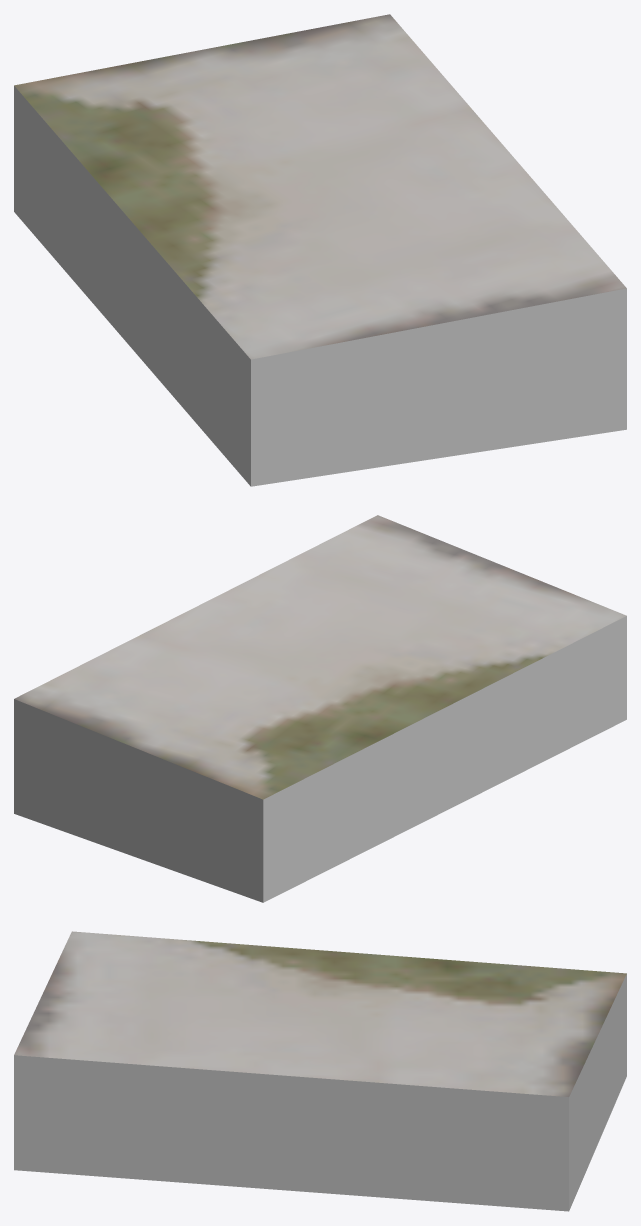
The model's file is DEBW_0010007TxhF.gltf.
The picture shows the model from 3 angles, top to bottom: view 1: azimuth 30°, elevation 25°; view 2: azimuth 150°, elevation 25°; view 3: azimuth 270°, elevation 25°; orthographic projection. The views are drawn at different scales.
Parts seen in each view (by area): view 1: Z_UP; view 2: Z_UP; view 3: Z_UP.
Part boxes in pixels (x1,y1,x2,y2): Z_UP: [14, 14, 626, 486]; Z_UP: [14, 515, 626, 902]; Z_UP: [14, 931, 626, 1211].
Bounding box in the file's own units: 8.16 × 2.48 × 11.97.
Materials: 2 (1 with a texture image).
